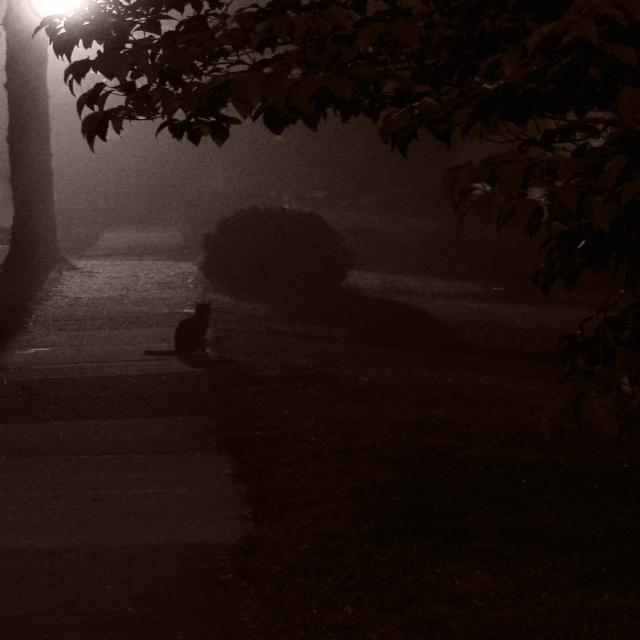Cat: (141, 298, 223, 371)
